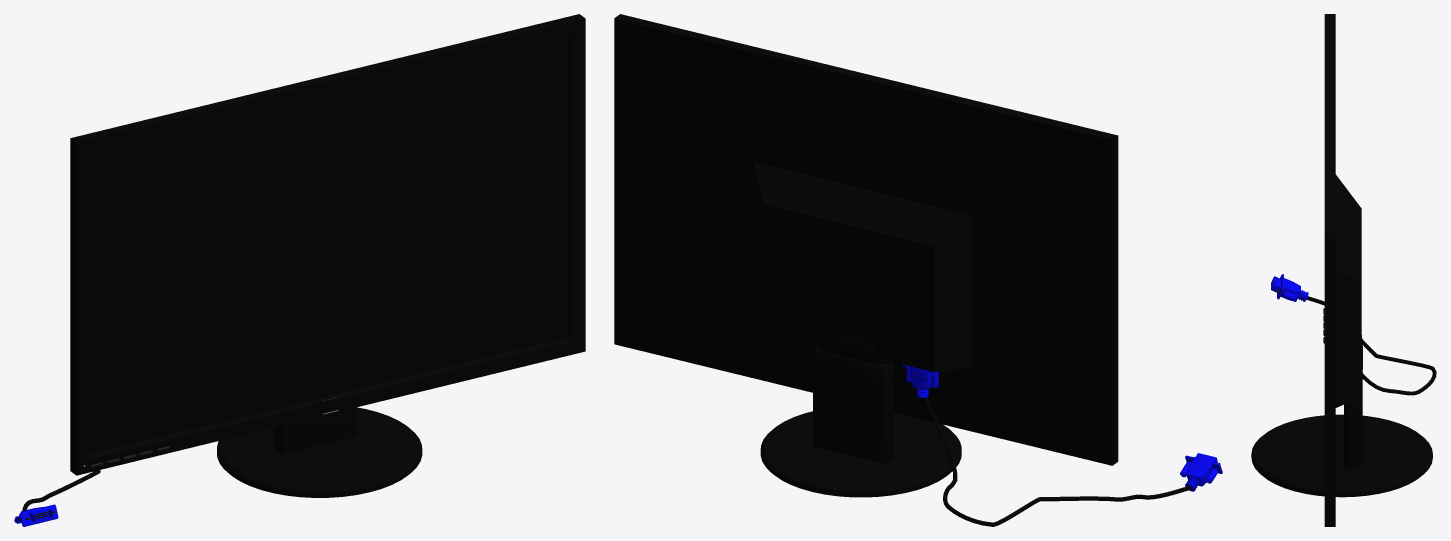
Rendered from monitor.FBX.
The picture shows the model from 3 angles, left to right: view 1: azimuth 30°, elevation 25°; view 2: azimuth 150°, elevation 25°; view 3: azimuth 270°, elevation 25°; orthographic projection. The views are drawn at different scales.
Parts seen in each view (by area): view 1: ChamferBox011; view 2: ChamferBox011; view 3: ChamferBox011.
Boxes of the visible parts, left/top/right/bottom form: ChamferBox011: left=14, top=14, right=585, bottom=526; ChamferBox011: left=614, top=14, right=1222, bottom=526; ChamferBox011: left=1251, top=14, right=1436, bottom=526.
Bounding box in the file's own units: 46.3 × 28.69 × 14.28.
